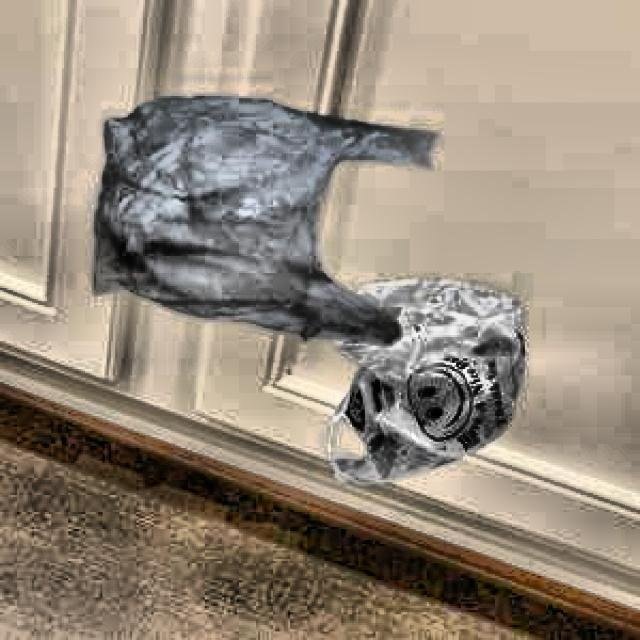Plastic: (69, 79, 424, 346), (298, 246, 538, 495)
